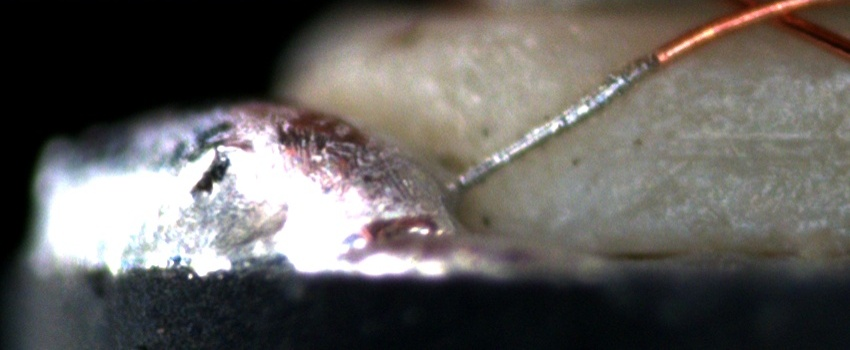CL: (713, 0, 811, 31)
DL: (616, 116, 850, 180), (627, 54, 850, 106)
TS: (454, 51, 661, 189)
